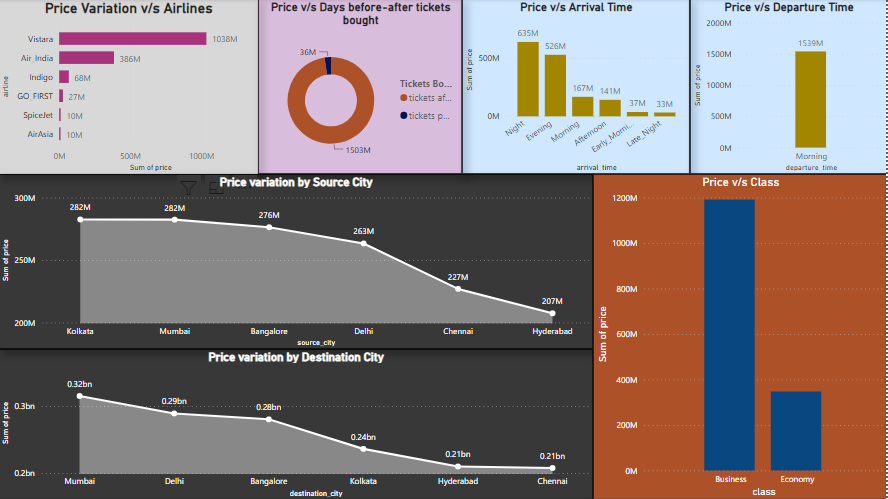

What the dashboard file says about the page in this screenshot:
{"tool":"powerbi","page":{"name":"Page 1","canvas":[1280,720],"ordinal":0},"visuals":[{"type":"clusteredBarChart","title":"Price Variation v/s Airlines","fields":{"Y":["Sum(Clean_Dataset.price)"],"Category":["Clean_Dataset.airline"]},"box":[0,0,374.6,252],"z":0},{"type":"donutChart","title":"Price v/s Days before-after tickets bought","fields":{"Category":["Clean_Dataset.Tickets Bought","Clean_Dataset.days_left"],"Y":["Sum(Clean_Dataset.price)"]},"box":[374.6,0,294,252],"z":1000},{"type":"columnChart","title":"Price v/s Arrival Time","fields":{"Category":["Clean_Dataset.arrival_time"],"Y":["Sum(Clean_Dataset.price)"]},"box":[668.6,0,327.6,252],"z":1001},{"type":"columnChart","title":"Price v/s Departure Time","fields":{"Y":["Sum(Clean_Dataset.price)"],"Category":["Clean_Dataset.departure_time"]},"box":[996.1,0,283.9,252],"z":1002},{"type":"areaChart","title":"Price variation by Source City","fields":{"Category":["Clean_Dataset.source_city"],"Y":["Sum(Clean_Dataset.price)"]},"box":[0,252,856.7,252],"z":1003},{"type":"areaChart","title":"Price variation by Destination  City","fields":{"Category":["Clean_Dataset.destination_city"],"Y":["Sum(Clean_Dataset.price)"]},"box":[0,503.9,856.7,216.7],"z":1004},{"type":"columnChart","title":"Price v/s Class","fields":{"Y":["Sum(Clean_Dataset.price)"],"Category":["Clean_Dataset.class"]},"box":[856.7,252,423.3,468.7],"z":1005}]}

Visuals, with their boxes in screenshot pixels (x1, y1, x2, y2), scaled from the page's 1280x720 canvas onto the 888x499 screenshot:
"Price Variation v/s Airlines" clusteredBarChart: [x1=0, y1=0, x2=260, y2=175]
"Price v/s Days before-after tickets bought" donutChart: [x1=260, y1=0, x2=464, y2=175]
"Price v/s Arrival Time" columnChart: [x1=464, y1=0, x2=691, y2=175]
"Price v/s Departure Time" columnChart: [x1=691, y1=0, x2=887, y2=175]
"Price variation by Source City" areaChart: [x1=0, y1=175, x2=594, y2=349]
"Price variation by Destination  City" areaChart: [x1=0, y1=349, x2=594, y2=498]
"Price v/s Class" columnChart: [x1=594, y1=175, x2=887, y2=498]
